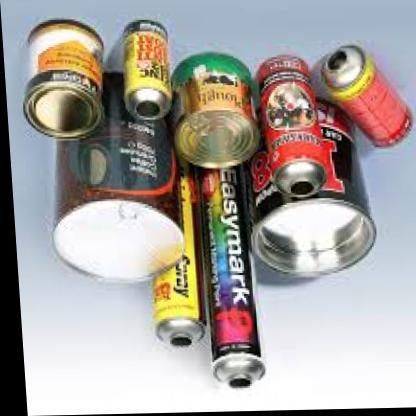Metal: (27, 162, 174, 292), (243, 173, 383, 292), (12, 15, 98, 144), (174, 58, 250, 178)
Organic: (173, 180, 272, 398), (326, 40, 416, 158), (120, 12, 172, 123)
